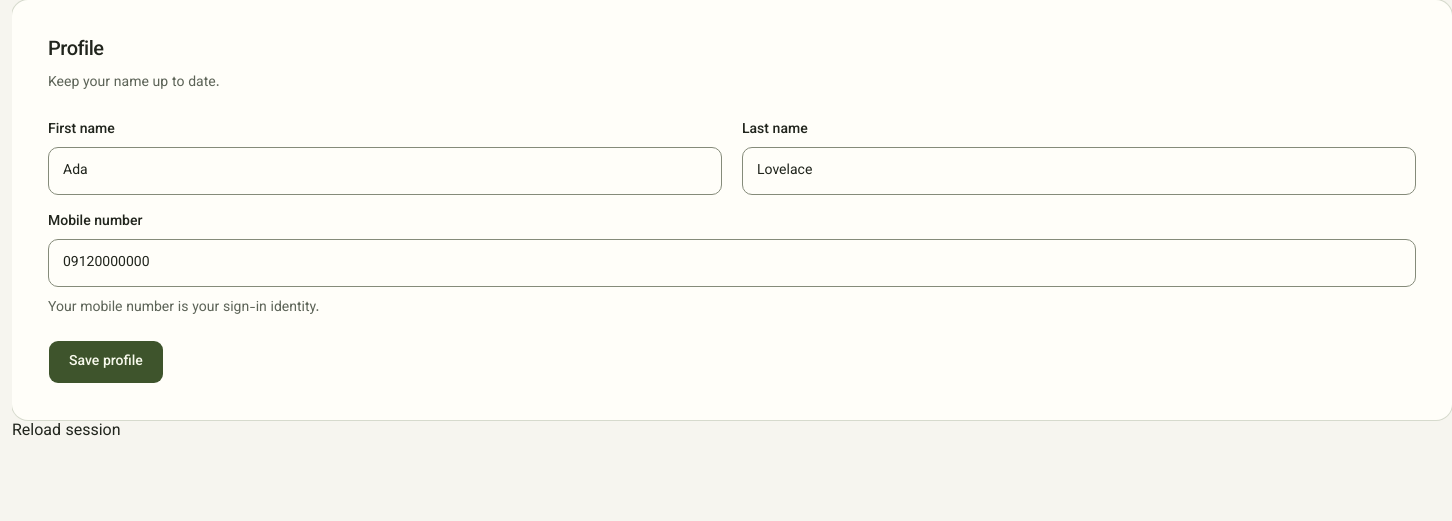
Test: profile form ownership › sends trimmed names and displays the normalized account returned by the API
Replace the text in the field labelled "First name" with "  Grace  " at (385, 171), box top-left (48, 147), bottom-right (722, 195)
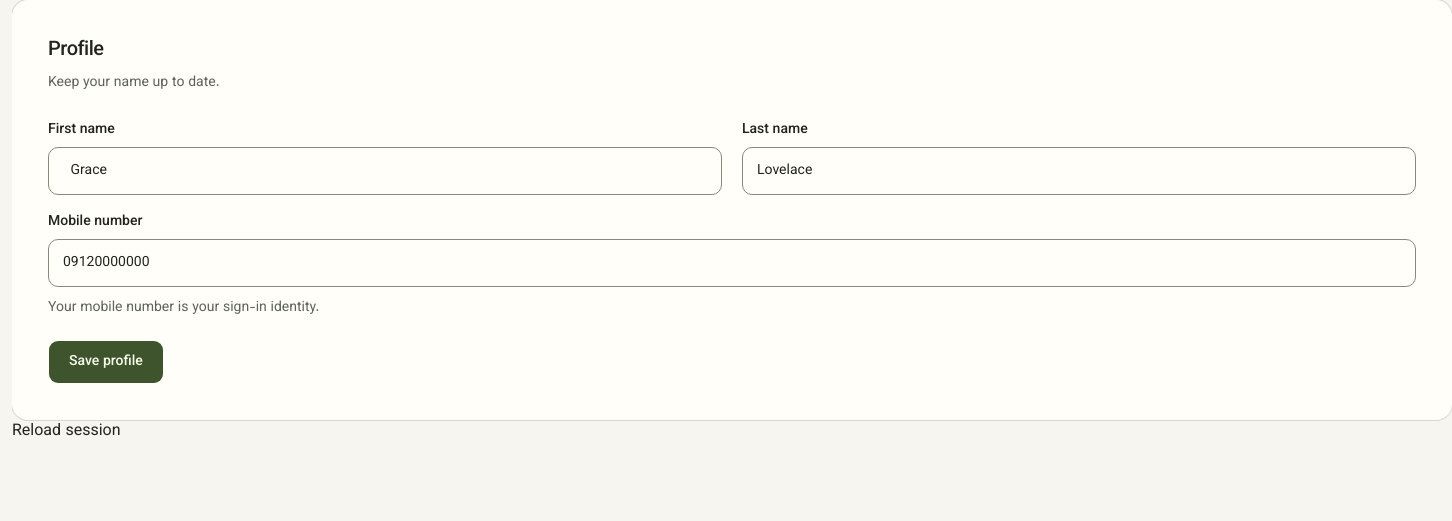
Replace the text in the field labelled "Last name" with "  Hopper  " at (1079, 171), box top-left (742, 147), bottom-right (1416, 195)
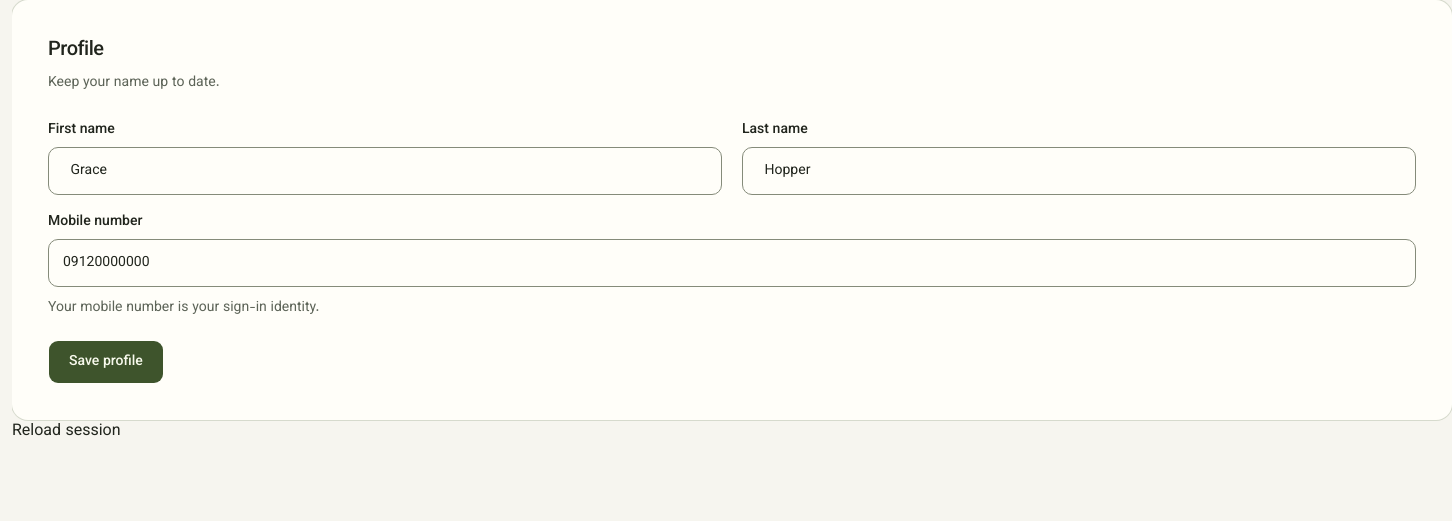
Click the button "Save profile" at (106, 362), box top-left (48, 340), bottom-right (164, 384)
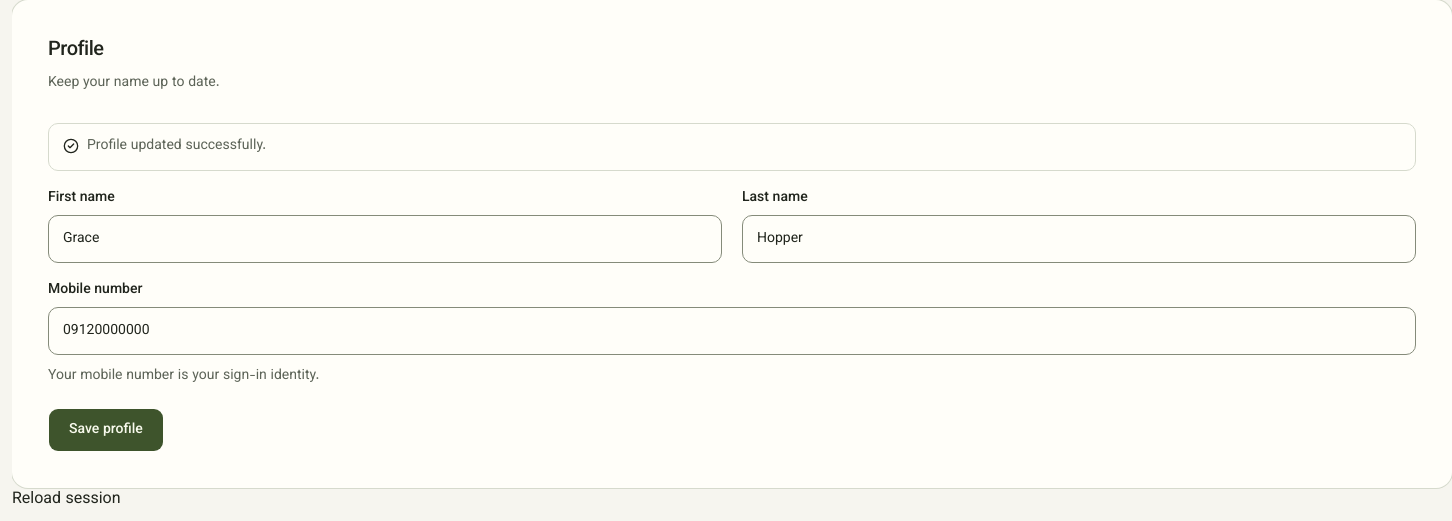
Check: the message "Profile updated successfully." is shown, box top-left (48, 123), bottom-right (1416, 171)
